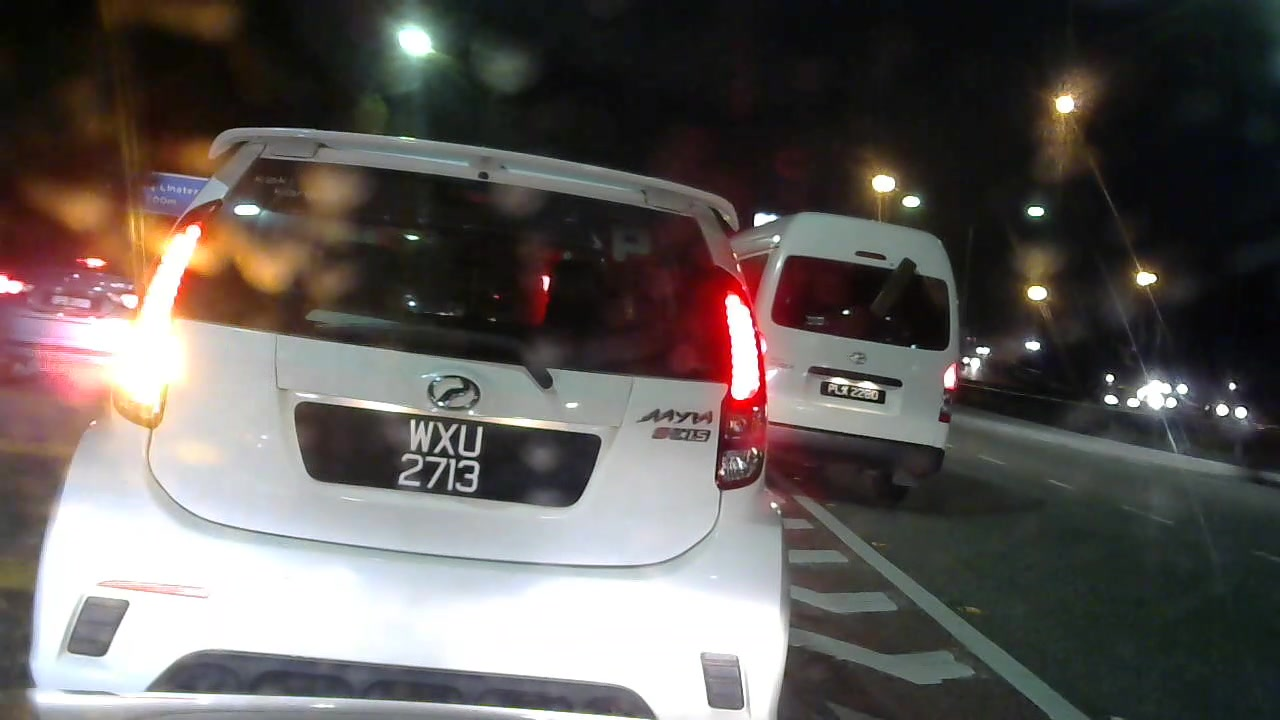Car: (87, 109, 801, 715), (5, 240, 146, 386)
